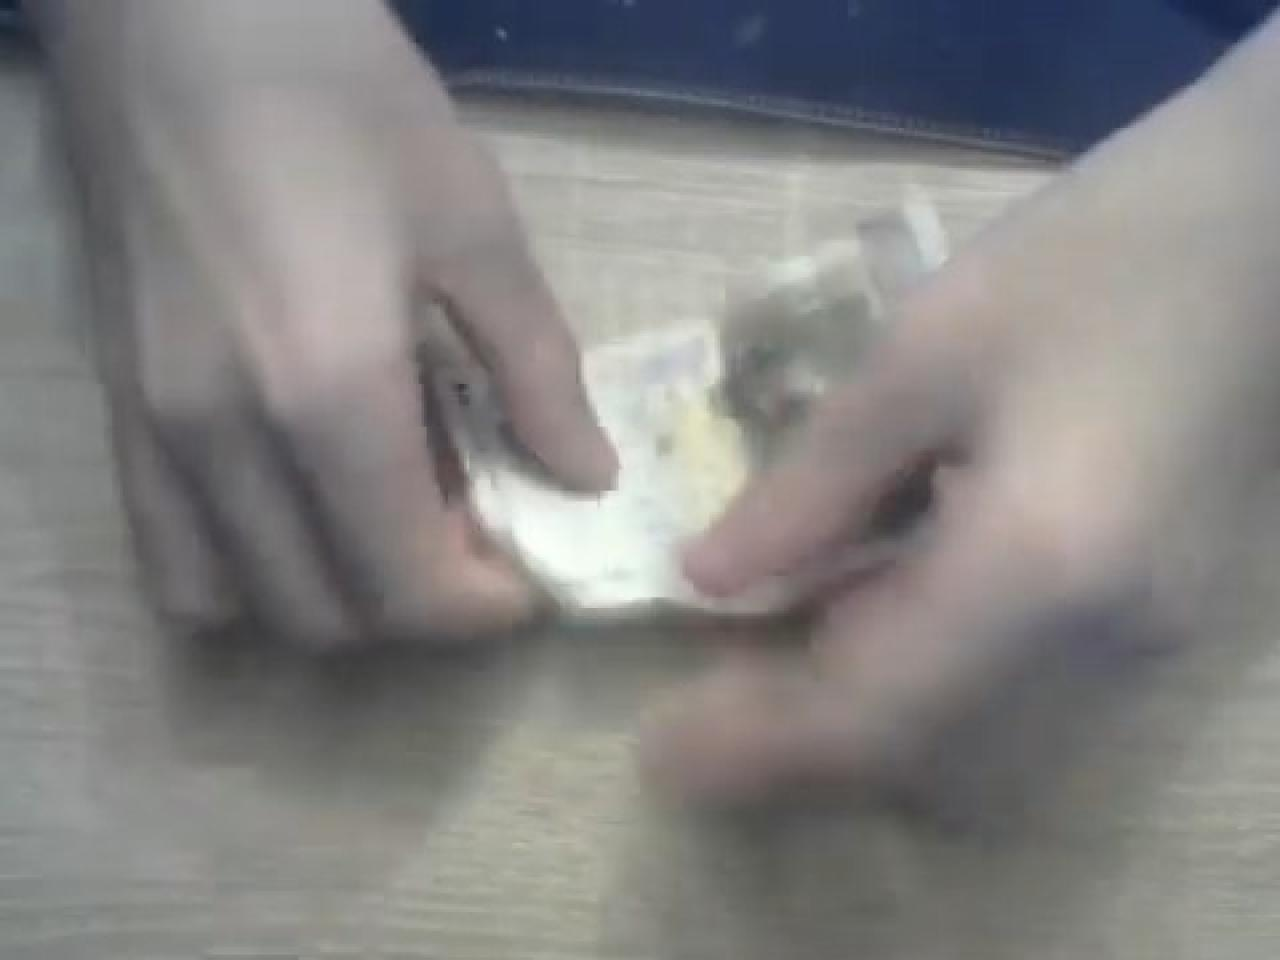10leva: (528, 318, 789, 608)
